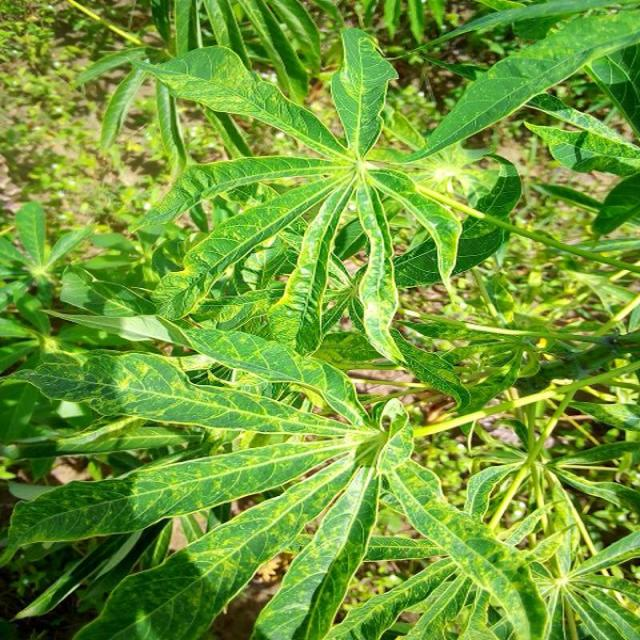cassava leaf: (2, 5, 638, 638), (128, 26, 522, 369)
